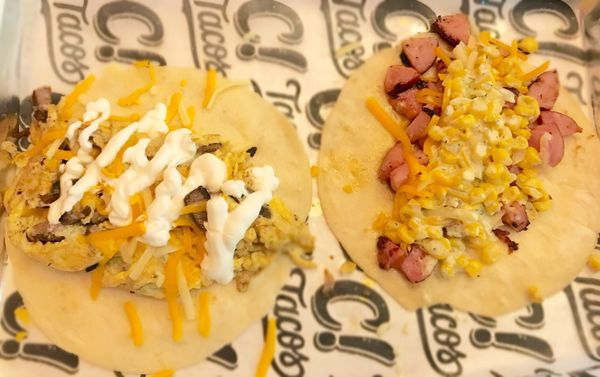burger: (1, 62, 317, 369), (315, 13, 600, 319)
